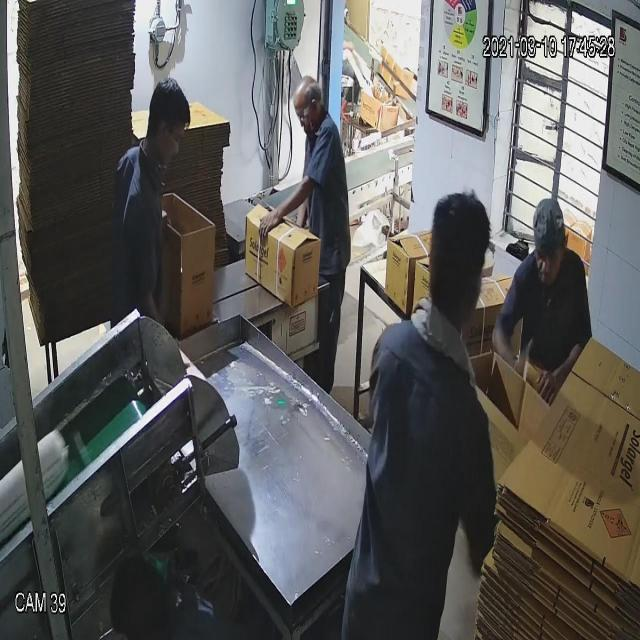No_Gloves: (59, 71, 561, 375)
